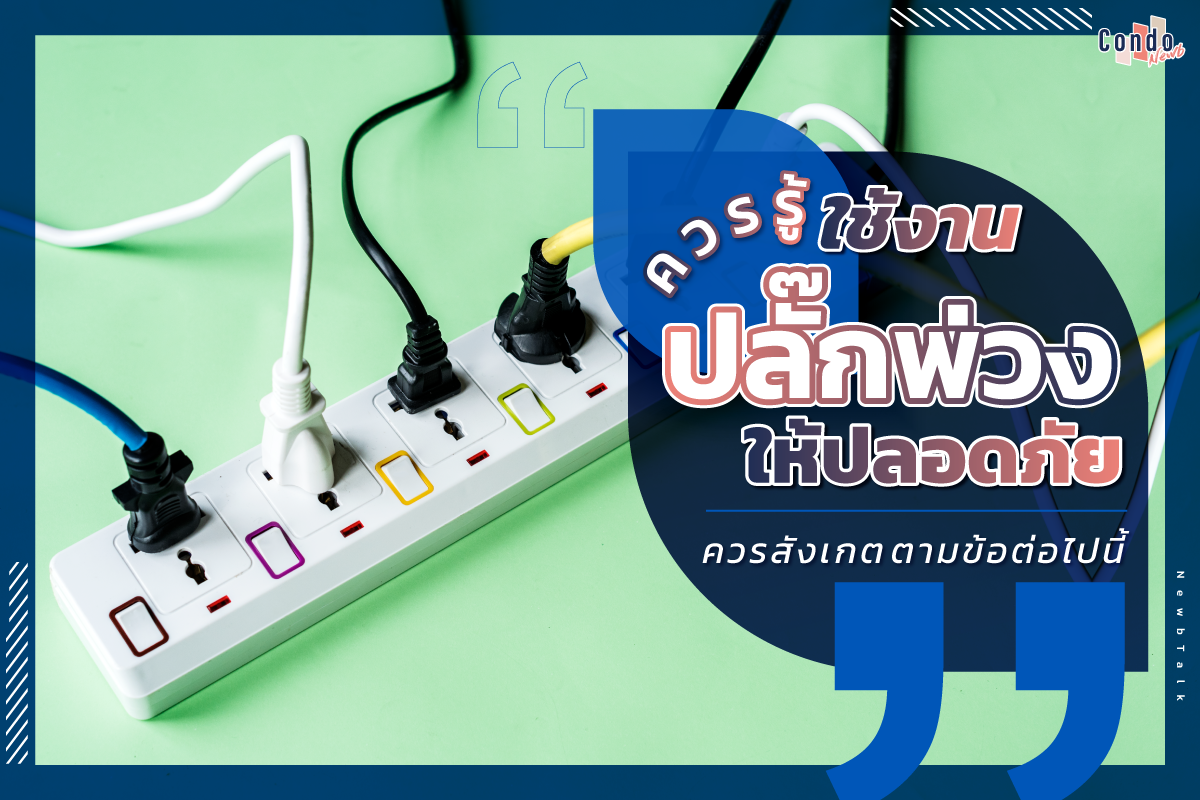Three_eye_plug: (39, 251, 630, 725)
